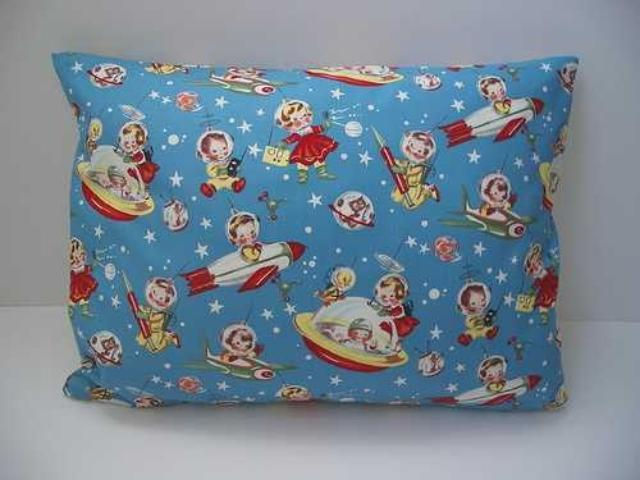pillow: (51, 50, 580, 412)
